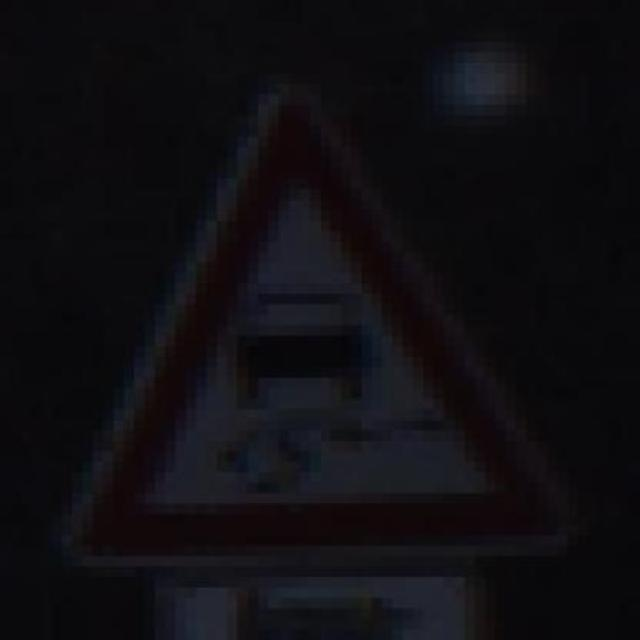Slippery Road Ahead: (61, 73, 598, 578)
